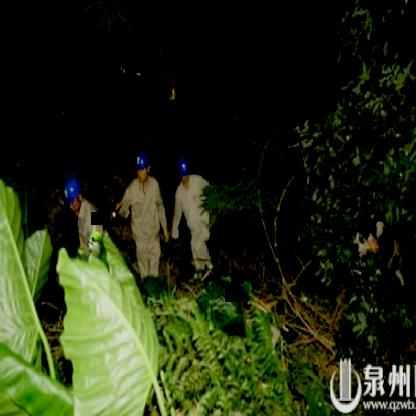helmet: (58, 172, 86, 220), (134, 153, 152, 183), (178, 156, 192, 184)
